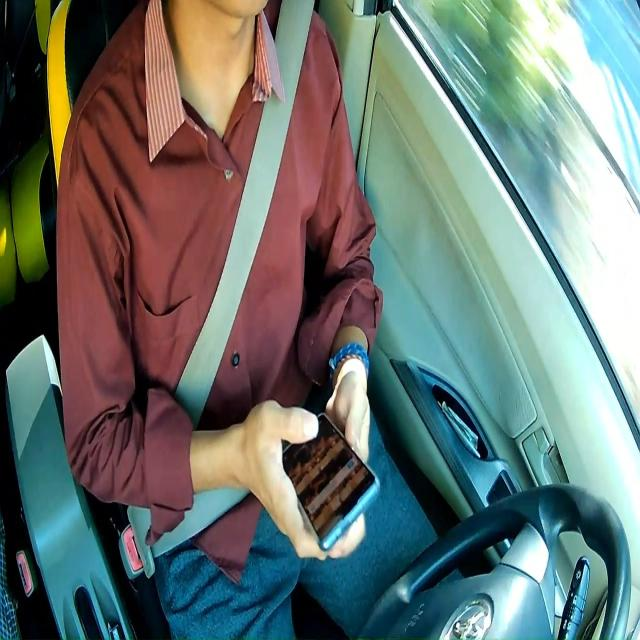phone: (280, 410, 382, 552)
